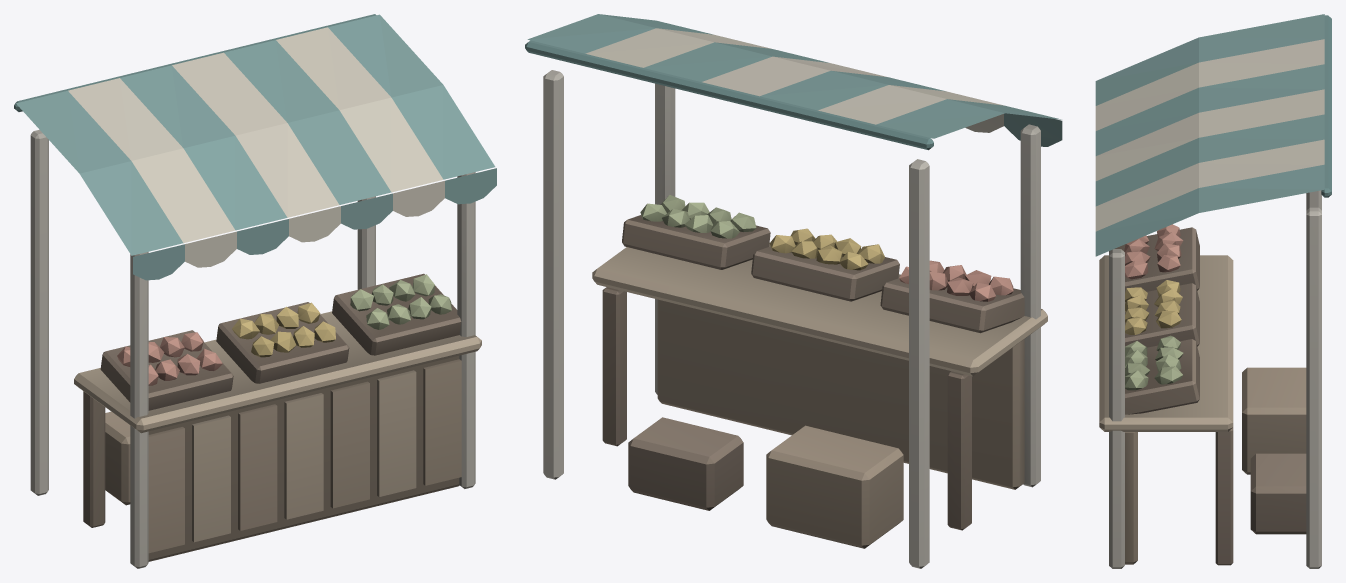
The model's file is stall.glb.
3 renders of one model, left to right at view 1: azimuth 30°, elevation 25°; view 2: azimuth 150°, elevation 25°; view 3: azimuth 270°, elevation 25°, orthographic. The views are drawn at different scales.
Bounding box in the file's own units: 2.36 × 2.42 × 1.35.
